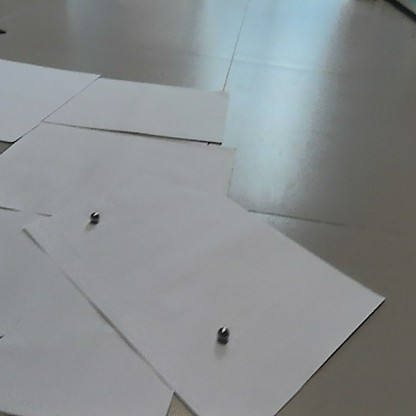ironball: (213, 323, 229, 343), (86, 208, 101, 225)
